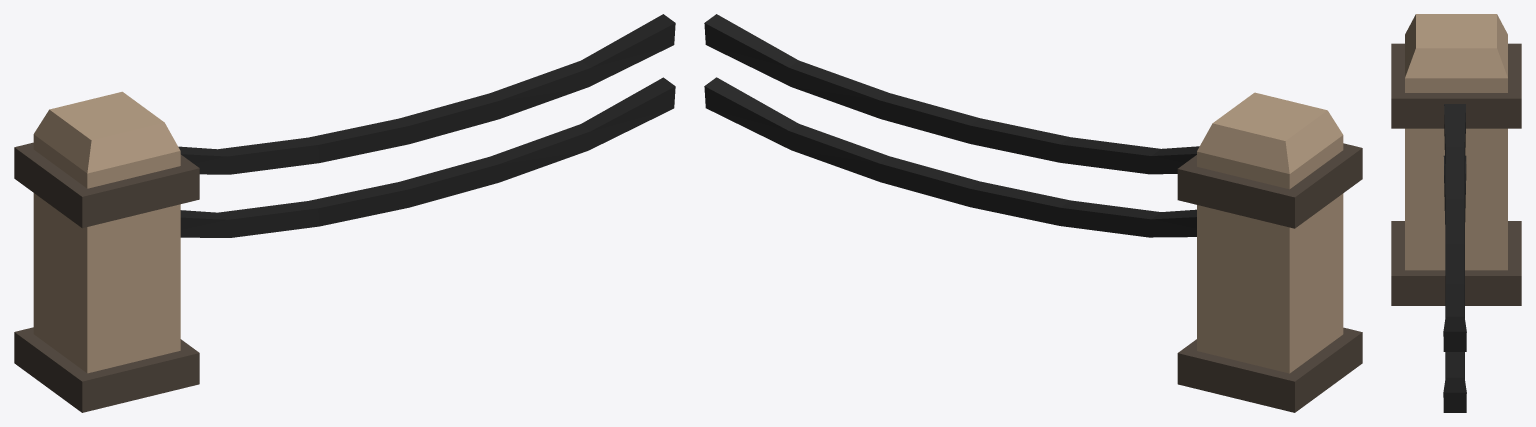
Rendered from Fence.gltf.
3 renders of one model, left to right at view 1: azimuth 30°, elevation 25°; view 2: azimuth 150°, elevation 25°; view 3: azimuth 270°, elevation 25°, orthographic. The views are drawn at different scales.
Parts seen in each view (by area): view 1: Fence; view 2: Fence; view 3: Fence.
Boxes of the visible parts, x1,y1,x2,y2 form: Fence: [14, 14, 675, 412]; Fence: [704, 14, 1362, 412]; Fence: [1391, 14, 1521, 412].
Size of the model in its own units: 2.31 by 0.9187 by 0.4384.
1 material, 1 textured.
